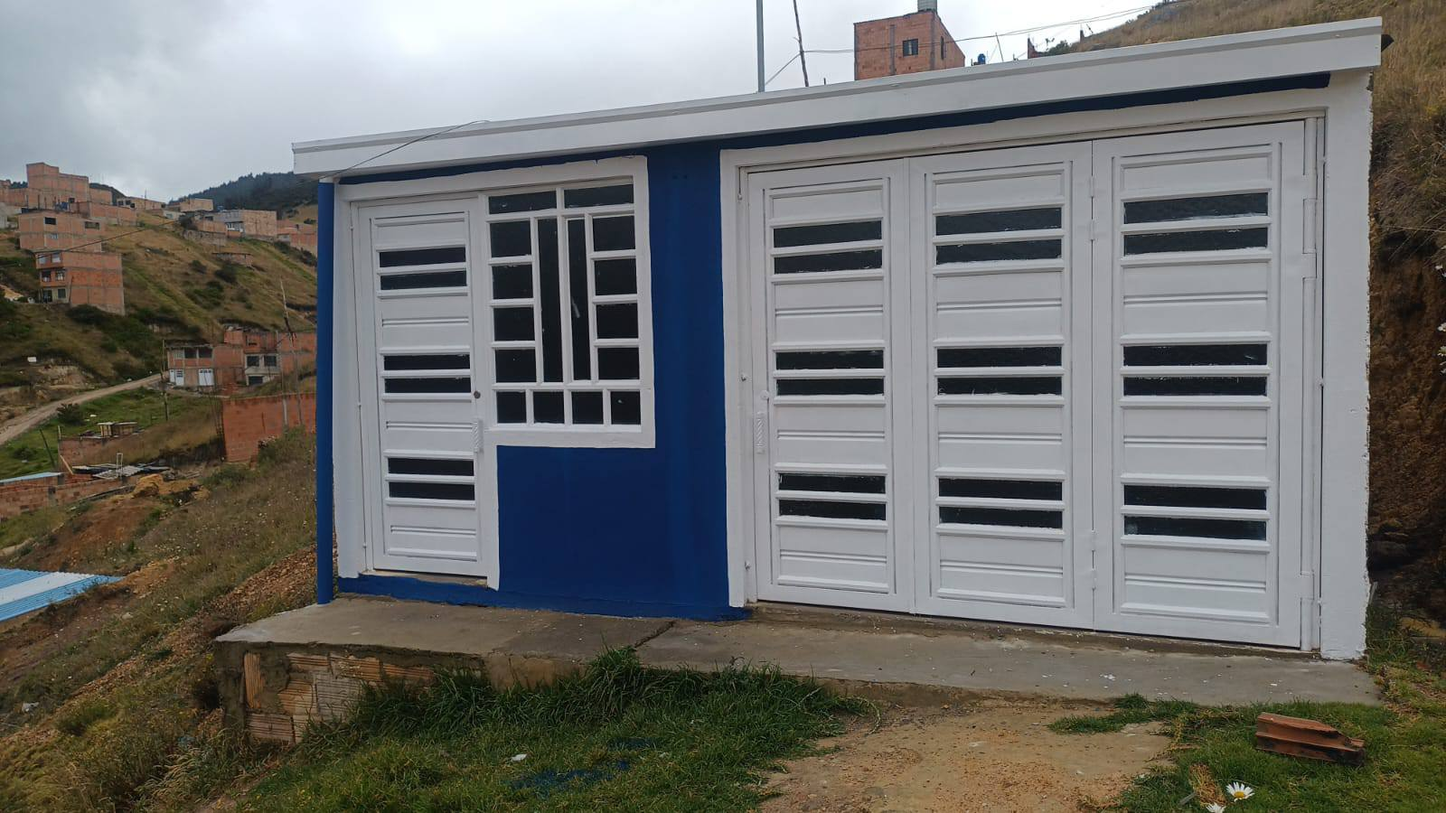House: (265, 85, 1382, 659)
